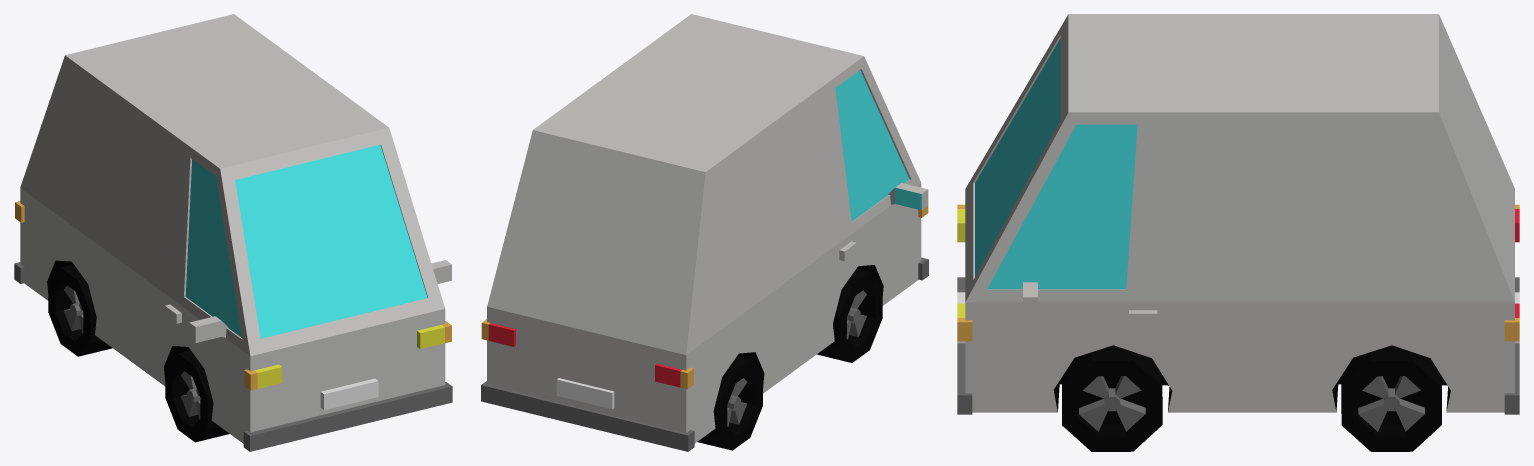
Rendered from Car5.fbx.
3 views of the same model, side by side, from view 1: azimuth 30°, elevation 25°; view 2: azimuth 150°, elevation 25°; view 3: azimuth 270°, elevation 25° (orthographic). The views are drawn at different scales.
Visible parts, largest first — view 1: Car Body.005, Front Bumper.005, Rear Right Wheel.005, Front Right Wheel.005, Head Lights.005, Door Mirrors.005, Front License Plate.005; view 2: Car Body.005, Rear Bumper.005, Front Right Wheel.005, Rear Right Wheel.005, Break Lights.005, Rear License Plate.005, Door Mirrors.005; view 3: Car Body.005, Rear Left Wheel.005, Front Left Wheel.005, Front Bumper.005, Head Lights.005, Rear Bumper.005, Break Lights.005.
Boxes of the visible parts, x1=… form: Car Body.005: x1=20, y1=14, x2=445, y2=443; Front Bumper.005: x1=243, y1=382, x2=452, y2=451; Rear Right Wheel.005: x1=48, y1=264, x2=112, y2=356; Front Right Wheel.005: x1=165, y1=350, x2=229, y2=442; Head Lights.005: x1=244, y1=321, x2=451, y2=390; Door Mirrors.005: x1=189, y1=260, x2=451, y2=342; Front License Plate.005: x1=320, y1=378, x2=378, y2=410; Car Body.005: x1=487, y1=14, x2=921, y2=443; Rear Bumper.005: x1=481, y1=381, x2=694, y2=451; Front Right Wheel.005: x1=817, y1=269, x2=882, y2=362; Rear Right Wheel.005: x1=697, y1=356, x2=762, y2=450; Break Lights.005: x1=481, y1=319, x2=693, y2=389; Rear License Plate.005: x1=556, y1=378, x2=614, y2=409; Door Mirrors.005: x1=888, y1=183, x2=928, y2=210; Car Body.005: x1=965, y1=14, x2=1514, y2=412; Rear Left Wheel.005: x1=1341, y1=345, x2=1441, y2=451; Front Left Wheel.005: x1=1062, y1=345, x2=1162, y2=451; Front Bumper.005: x1=957, y1=277, x2=972, y2=414; Head Lights.005: x1=957, y1=204, x2=972, y2=341; Rear Bumper.005: x1=1504, y1=277, x2=1519, y2=414; Break Lights.005: x1=1504, y1=204, x2=1519, y2=341.
Size of the model in its own units: 409 by 422 by 651.
